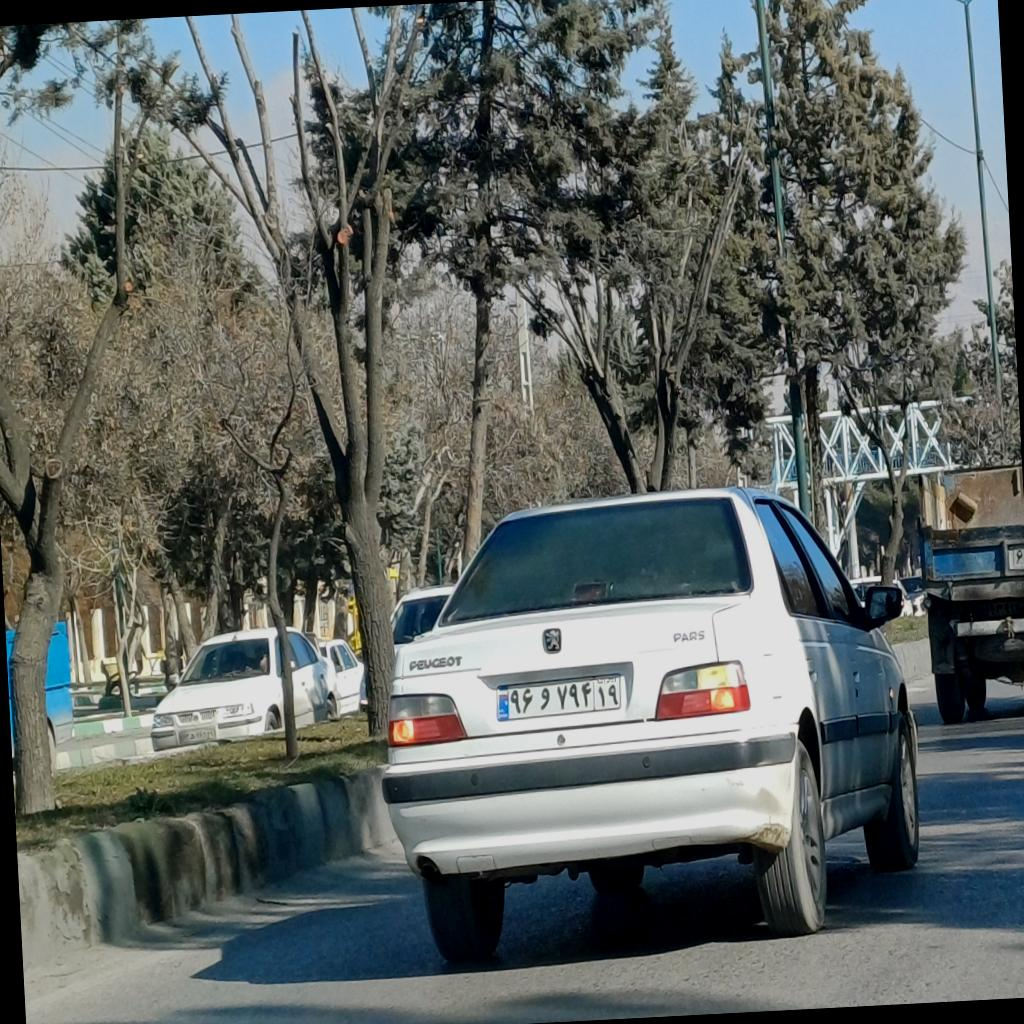Plates: (496, 673, 622, 722)
